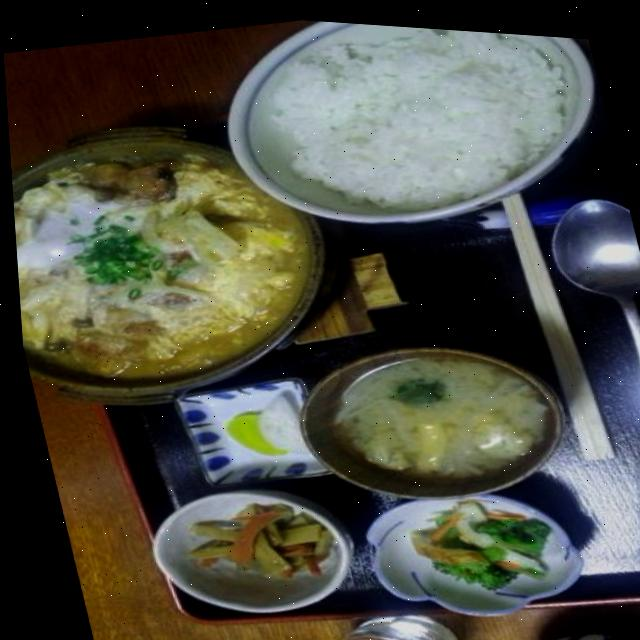米饭主食: (236, 12, 593, 243)
